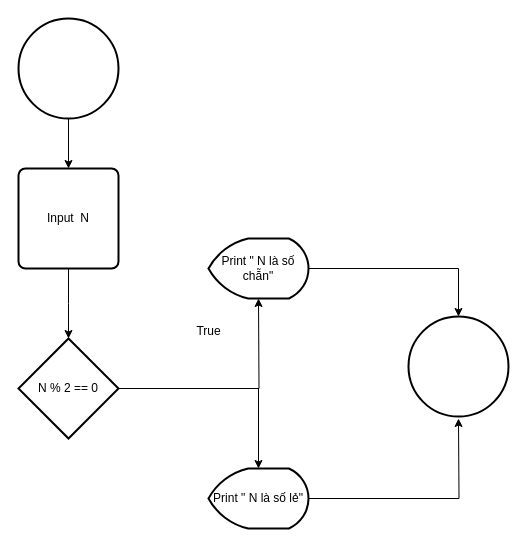
Image size: 526x546. Some labels were removed from this diagram. Here are the shapes that lost their labels. From the top down, the centre of each, then its label:
point 68,68: START
point 458,366: End
